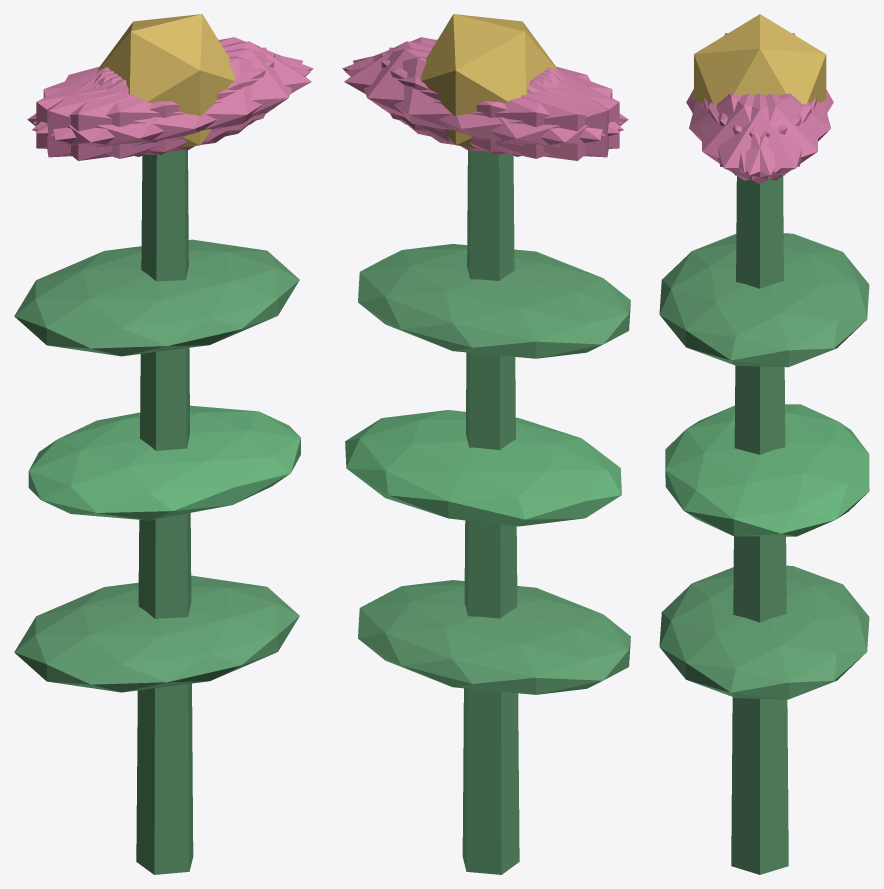
Rendered from evolvulus-glomeratus.glb.
3 renders of one model, left to right at view 1: azimuth 30°, elevation 25°; view 2: azimuth 150°, elevation 25°; view 3: azimuth 270°, elevation 25°, orthographic.
Parts seen in each view (by area): view 1: stem, leaf2, leaf0, leaf1, center, petal1, petal6, petal2, petal5, petal7, petal0, petal4 (+2 smaller); view 2: stem, leaf1, leaf2, leaf0, center, petal8, petal3, petal7, petal4, petal2, petal0, petal5 (+2 smaller); view 3: stem, leaf2, leaf1, leaf0, center, petal0, petal5, petal4, petal8, petal1.
Boxes of the visible parts, bbox=[...] form: stem: bbox=[136, 150, 193, 874]; leaf2: bbox=[14, 239, 299, 356]; leaf0: bbox=[14, 575, 299, 692]; leaf1: bbox=[28, 405, 300, 520]; center: bbox=[98, 14, 235, 147]; petal1: bbox=[32, 56, 310, 158]; petal6: bbox=[27, 69, 229, 160]; petal2: bbox=[47, 47, 266, 157]; petal5: bbox=[51, 48, 302, 151]; petal7: bbox=[36, 53, 274, 154]; petal0: bbox=[97, 41, 311, 141]; petal4: bbox=[33, 37, 313, 133]; stem: bbox=[462, 150, 519, 874]; leaf1: bbox=[345, 410, 621, 526]; leaf2: bbox=[358, 244, 630, 358]; leaf0: bbox=[358, 580, 630, 694]; center: bbox=[420, 14, 557, 147]; petal8: bbox=[345, 56, 623, 158]; petal3: bbox=[426, 69, 628, 160]; petal7: bbox=[389, 47, 608, 157]; petal4: bbox=[353, 48, 604, 151]; petal2: bbox=[381, 53, 619, 154]; petal0: bbox=[344, 41, 558, 141]; petal5: bbox=[342, 37, 622, 133]; stem: bbox=[731, 176, 788, 874]; leaf2: bbox=[659, 233, 869, 367]; leaf1: bbox=[665, 404, 869, 536]; leaf0: bbox=[659, 565, 869, 699]; center: bbox=[694, 14, 826, 104]; petal0: bbox=[703, 94, 816, 183]; petal5: bbox=[701, 93, 811, 180]; petal4: bbox=[708, 93, 818, 180]; petal8: bbox=[718, 93, 830, 172]; petal1: bbox=[689, 93, 801, 172].
Bounding box in the file's own units: 0.1454 × 0.4243 × 0.0972.
